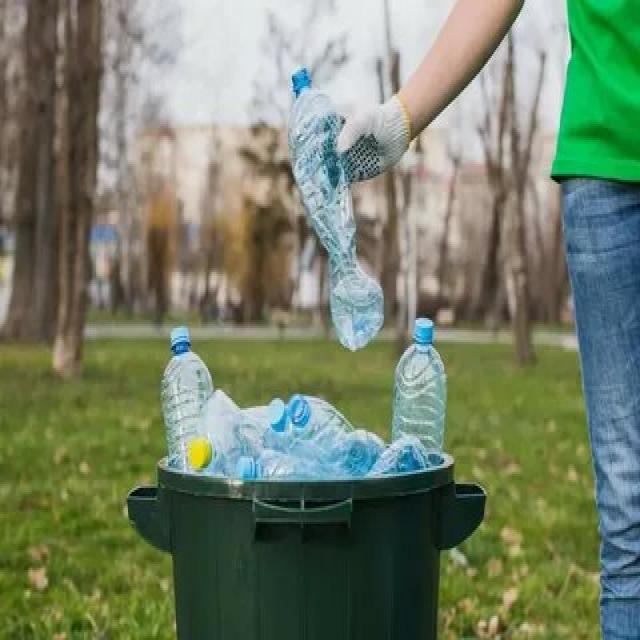blue: (288, 67, 384, 353), (391, 342, 447, 458), (161, 345, 216, 445), (287, 396, 348, 449)
